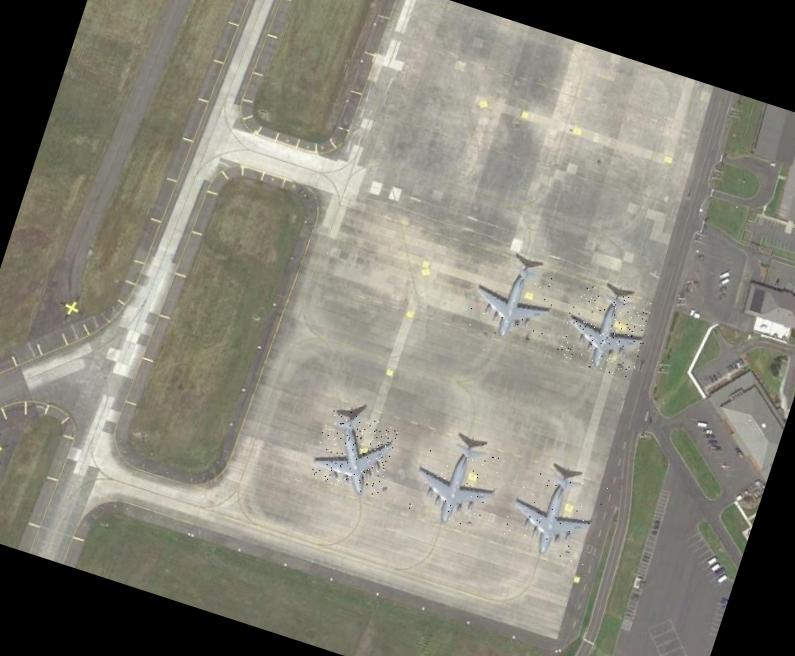A3: (498, 458, 608, 564), (401, 426, 506, 534), (462, 251, 562, 352), (554, 280, 655, 380), (307, 404, 398, 498)
